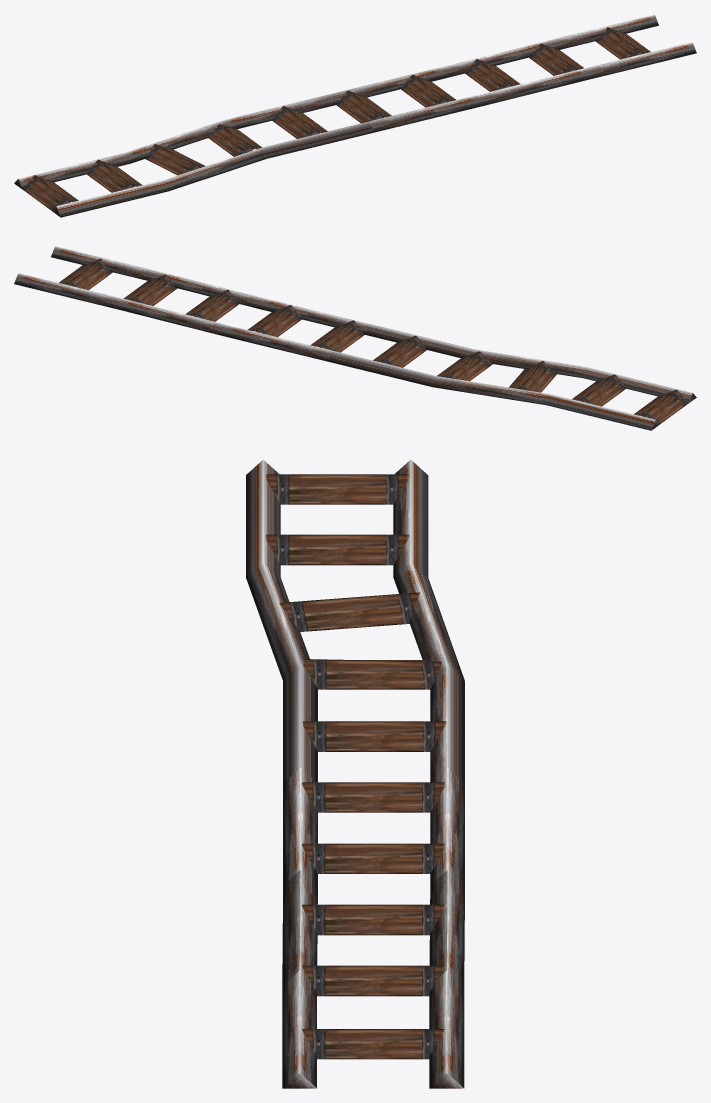
Rendered from goldminetracks.obj.
3 renders of one model, top to bottom at view 1: azimuth 30°, elevation 25°; view 2: azimuth 150°, elevation 25°; view 3: azimuth 270°, elevation 25°, orthographic. The views are drawn at different scales.
Parts seen in each view (by area): view 1: Geoset0, Geoset1; view 2: Geoset0, Geoset1; view 3: Geoset1, Geoset0.
Part boxes in pixels (box(x1,y1,x2,y2)): Geoset0: box(14, 14, 696, 217); Geoset1: box(23, 27, 650, 210); Geoset0: box(14, 246, 696, 430); Geoset1: box(59, 258, 687, 423); Geoset1: box(265, 474, 447, 1059); Geoset0: box(246, 459, 464, 1088).
Bounding box in the file's own units: 11.25 × 0.1481 × 1.7.
2 materials, 2 textured.
